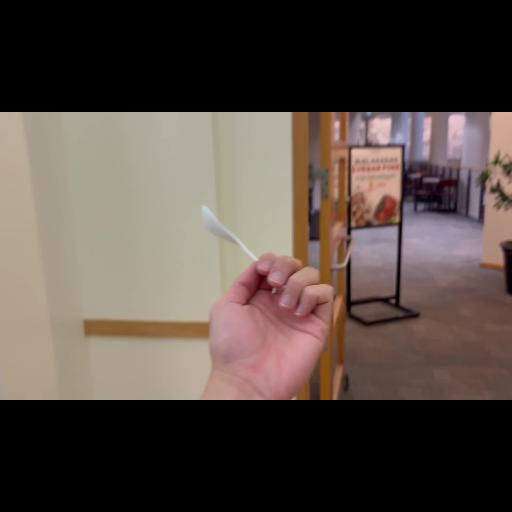utensil: (194, 189, 286, 309)
